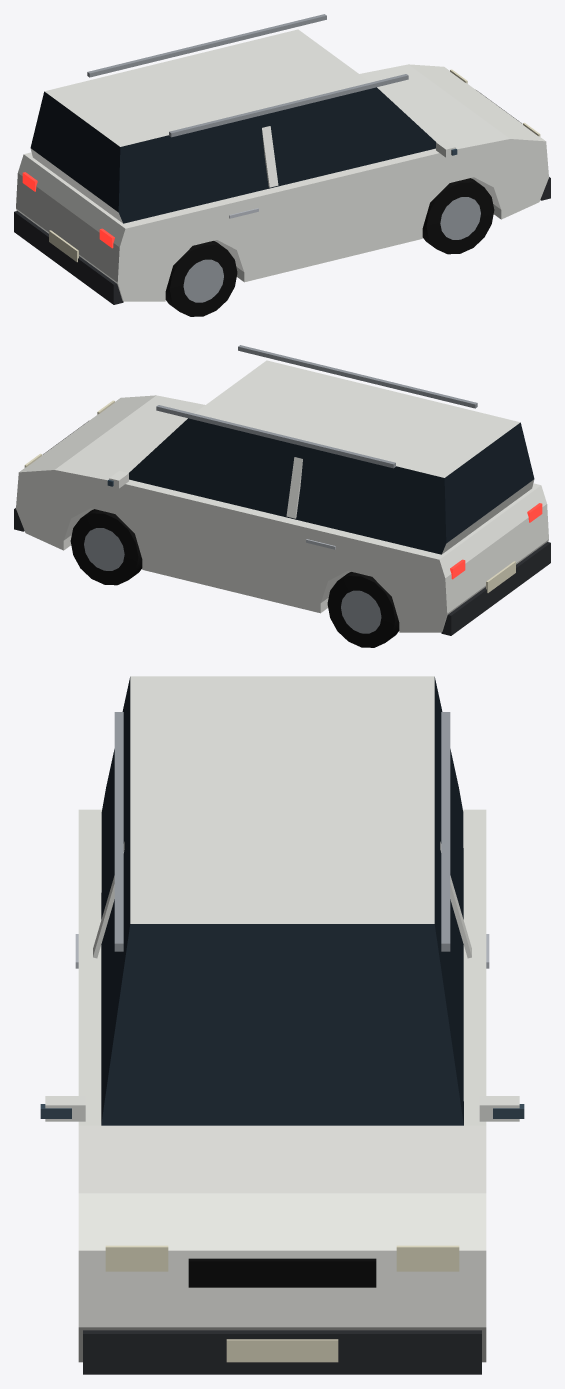
File: suv.glb
3 renders of one model, top to bottom at view 1: azimuth 30°, elevation 25°; view 2: azimuth 150°, elevation 25°; view 3: azimuth 270°, elevation 25°, orthographic. The views are drawn at different scales.
Visible parts, largest first — view 1: suv_body, wheel_fr.002, wheel_rr.004; view 2: suv_body, wheel_fl.002, wheel_rl.004; view 3: suv_body.
Boxes of the visible parts, left/top/right/bottom form: suv_body: left=14, top=14, right=550, bottom=304; wheel_fr.002: left=422, top=178, right=494, bottom=254; wheel_rr.004: left=165, top=241, right=237, bottom=316; suv_body: left=14, top=345, right=550, bottom=635; wheel_fl.002: left=70, top=509, right=142, bottom=585; wheel_rl.004: left=327, top=572, right=399, bottom=647; suv_body: left=40, top=676, right=524, bottom=1374.
Bounding box in the file's own units: 4.53 × 1.81 × 2.16.
Materials: 2 (1 with a texture image).
